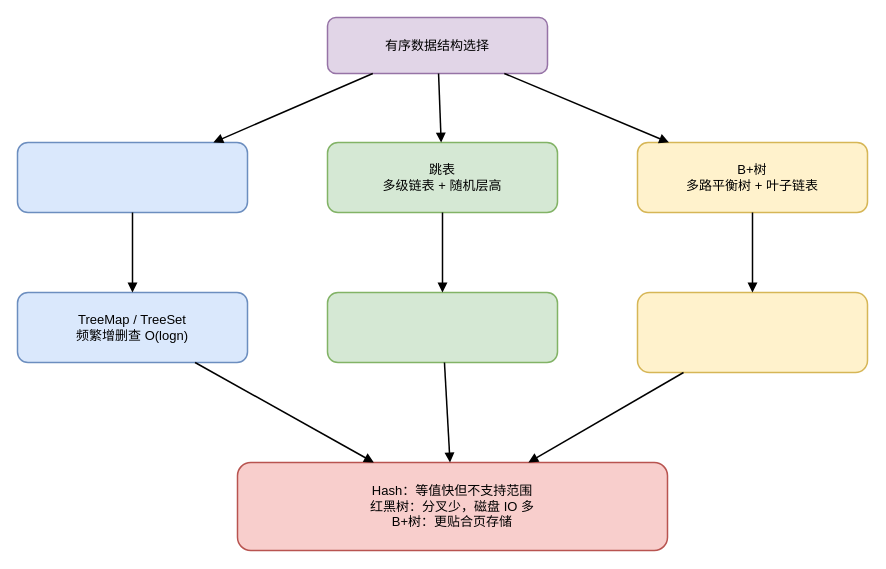
Some shapes in this 886 by 569 pixel diagram are drawn without their labels. The shapes that lost their labels are listed below. From the top down, each one's centre as x and y in pixels, then its label:
(132,177): 红黑树 二叉搜索树 + 颜色平衡
(442,327): Redis ZSet / KV 索引 范围扫描友好
(752,332): 数据库索引 降低树高，减少页 IO 范围查询强
